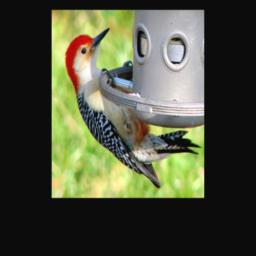Woodpecker: (65, 28, 201, 190)
